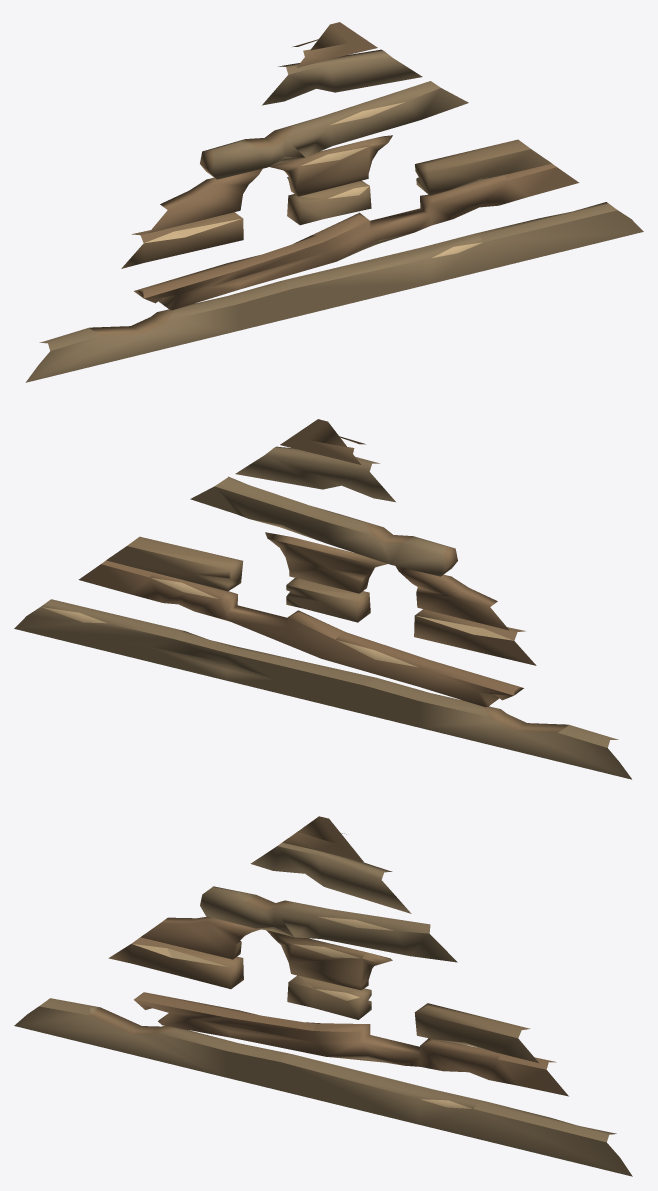
Rendered from rpgpp_av_roof_end_01_9x4_wall_window_01b.gltf.
3 renders of one model, top to bottom at view 1: azimuth 30°, elevation 25°; view 2: azimuth 150°, elevation 25°; view 3: azimuth 330°, elevation 25°, orthographic.
Visible parts, largest first — view 1: rpgpp_av_roof_end_01_9x4_wall_window_01b; view 2: rpgpp_av_roof_end_01_9x4_wall_window_01b; view 3: rpgpp_av_roof_end_01_9x4_wall_window_01b.
Part boxes in pixels (x1=…): rpgpp_av_roof_end_01_9x4_wall_window_01b: x1=25, y1=22, x2=643, y2=382; rpgpp_av_roof_end_01_9x4_wall_window_01b: x1=14, y1=419, x2=631, y2=779; rpgpp_av_roof_end_01_9x4_wall_window_01b: x1=14, y1=816, x2=632, y2=1176.
Size of the model in its own units: 0.0967 by 0.0424 by 0.00387.
Materials: 1 (1 with a texture image).
